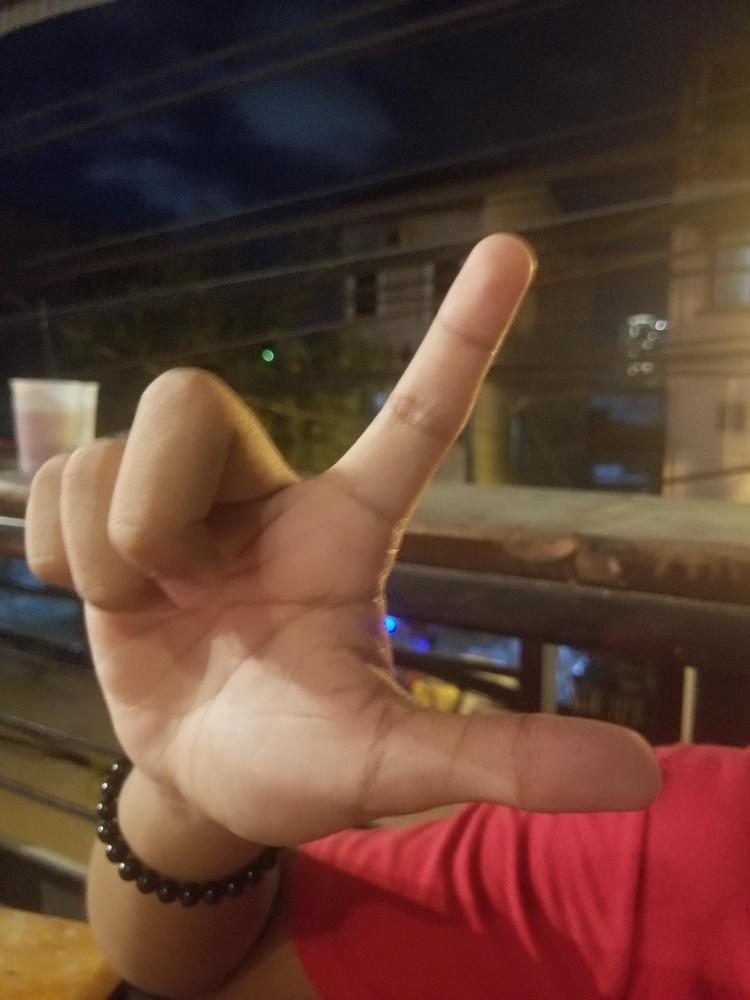l: (26, 230, 663, 810)
